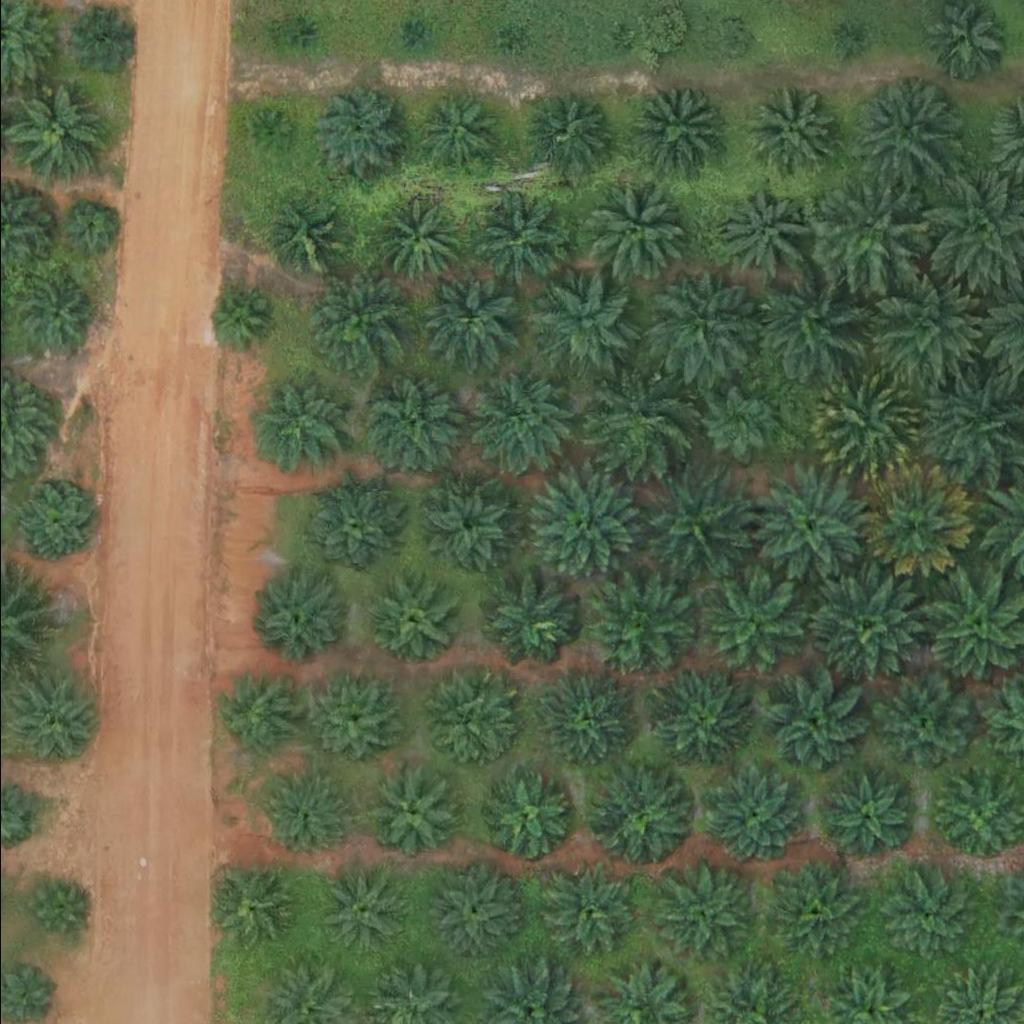Kelapa_Sawit: (517, 467, 631, 580), (848, 74, 962, 187), (690, 569, 803, 682), (857, 465, 970, 578), (808, 367, 921, 480), (756, 467, 869, 580), (638, 464, 751, 577), (750, 268, 864, 380), (647, 272, 761, 384), (814, 177, 928, 289), (808, 568, 921, 680), (864, 265, 977, 377), (300, 74, 413, 186), (879, 868, 980, 968), (762, 865, 863, 965), (653, 864, 754, 964), (536, 863, 637, 963), (420, 861, 521, 961), (702, 764, 803, 864), (589, 769, 690, 869), (871, 674, 972, 774), (762, 672, 863, 772), (646, 670, 747, 770), (536, 672, 637, 772), (592, 580, 693, 680), (531, 271, 632, 371), (582, 180, 683, 280), (470, 188, 571, 288), (303, 275, 404, 375), (358, 369, 459, 469), (248, 374, 349, 474), (3, 85, 104, 185), (481, 569, 581, 669), (588, 376, 688, 476), (467, 369, 567, 469), (300, 480, 400, 580), (249, 572, 349, 672), (303, 674, 403, 774), (413, 92, 502, 180), (478, 771, 566, 859), (420, 477, 508, 565), (522, 89, 610, 177), (370, 198, 458, 286), (365, 771, 453, 859), (259, 773, 347, 861), (319, 869, 407, 957), (209, 866, 297, 954), (933, 771, 1021, 858), (818, 774, 906, 861), (419, 677, 507, 764), (418, 278, 506, 365), (717, 190, 805, 277), (750, 90, 838, 177), (628, 83, 716, 170), (369, 580, 457, 667), (212, 674, 300, 761), (701, 385, 777, 460), (18, 486, 94, 561), (265, 205, 340, 280), (16, 277, 91, 352), (204, 284, 267, 347), (66, 7, 129, 70), (23, 877, 86, 939), (62, 202, 112, 252), (708, 21, 746, 59), (253, 114, 291, 152), (836, 34, 861, 59), (606, 30, 631, 55), (490, 24, 515, 49), (401, 25, 426, 50), (291, 18, 316, 43)
